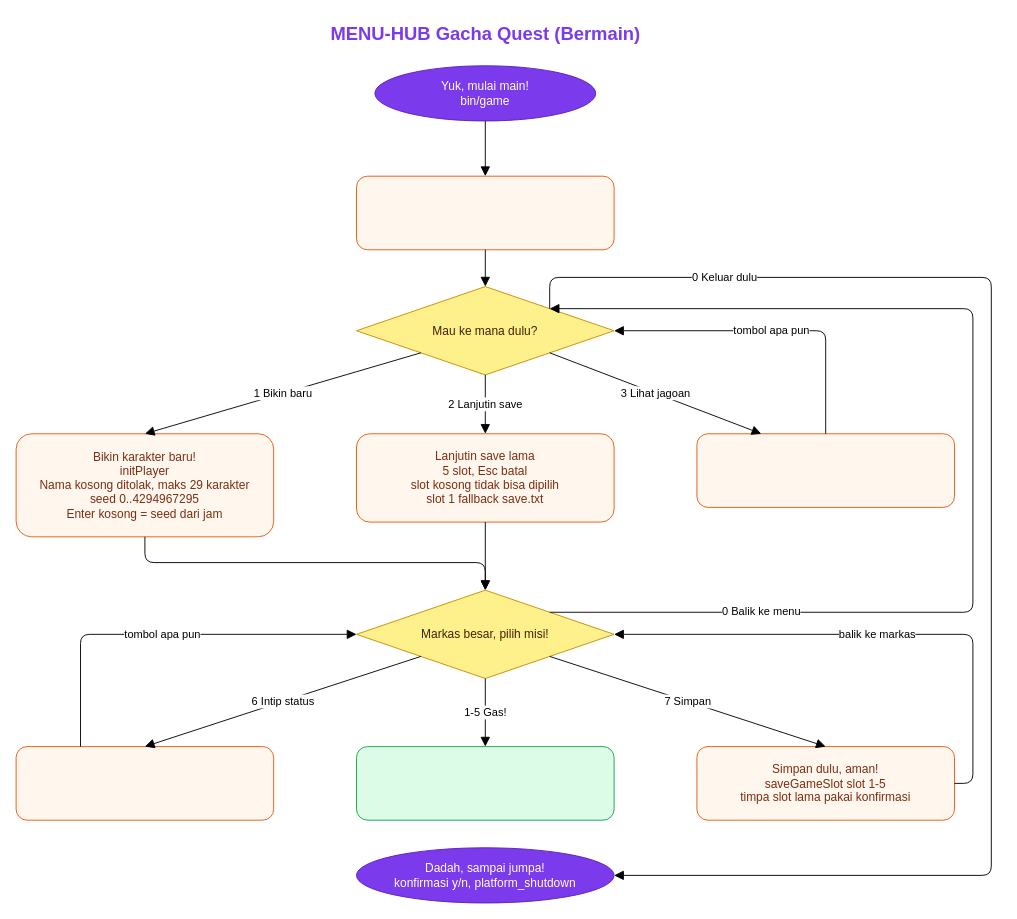
The diagram is 1017 pixels wide and 919 high, and some of its shapes have lost their labels. Here are the shapes that lost their labels. From the top down, the centre of each, then its label:
At (x=485, y=212): "Siapin mesin dulu platform_init dan ui_init cek terminal minimal 50x20".
At (x=825, y=470): "Siapa paling jago? 10 entri tersimpan 5 teratas tampil".
At (x=144, y=783): "Intip status kamu showStatus tombol apa pun kembali ke Hub".
At (x=485, y=783): "Gas ke Battle, Gacha, Inventory, Shop, atau Dungeon!".
